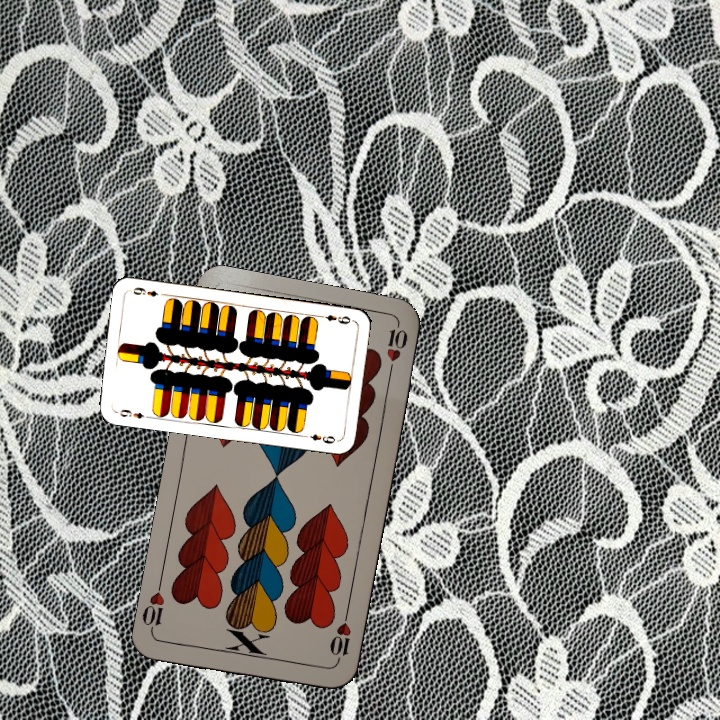E9: (314, 311, 355, 327), (111, 405, 152, 421)
H10: (325, 608, 354, 667)
